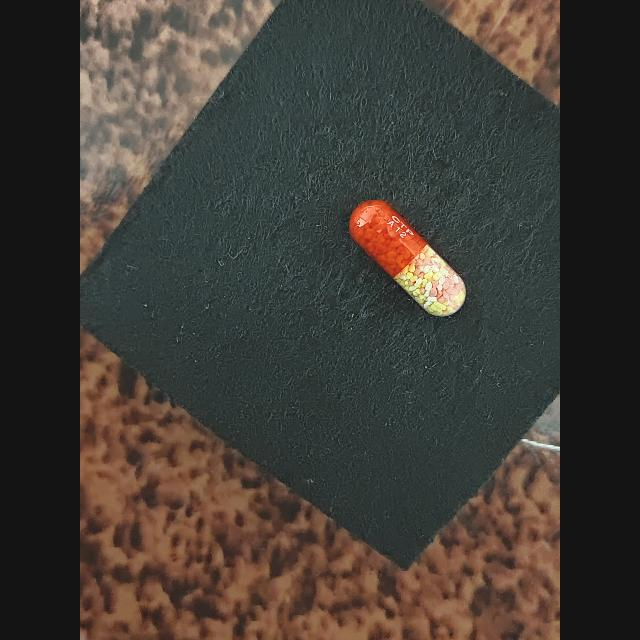Intact Capsule: (349, 200, 466, 316)
